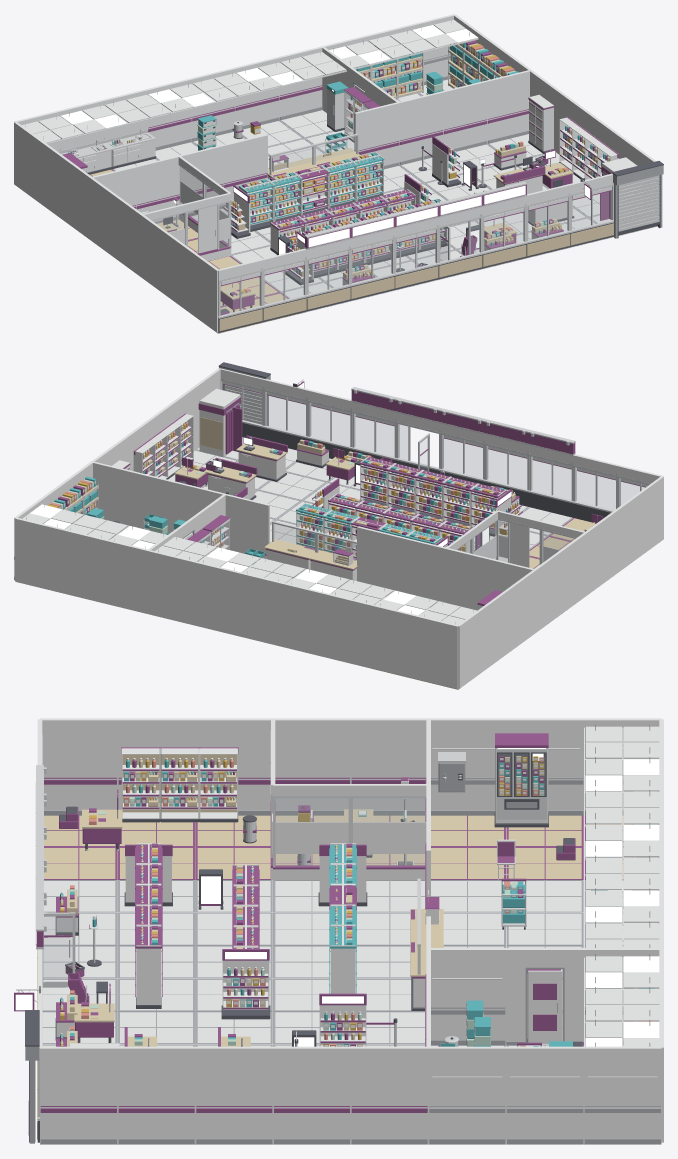
Rendered from pharmacy-and-high-street-chemist-high-st-0437019a-starter-scene__37548.glb.
3 renders of one model, top to bottom at view 1: azimuth 30°, elevation 25°; view 2: azimuth 150°, elevation 25°; view 3: azimuth 270°, elevation 25°, orthographic. The views are drawn at different scales.
Visible parts, largest first — view 1: 123-shop-wall-module/0, 124-shop-wall-module/0, 122-shop-wall-module/0, 121-shop-wall-module/0, 118-shop-wall-module/0, 090-roller-shutter/shutter-curtain/steel, 120-shop-wall-module/0, 108-shop-wall-module/0, 106-shop-wall-module/0, 103-stock-room-wall-module/0, 101-stock-room-wall-module/0, 102-stock-room-wall-module/0 (+103 smaller); view 2: 091-shop-wall-module/0, 093-shop-wall-module/0, 094-shop-wall-module/0, 095-shop-wall-module/0, 098-stock-room-wall-module/0, 099-stock-room-wall-module/0, 100-stock-room-wall-module/0, 096-shop-wall-module/0, 097-shop-wall-module/0, 092-shop-wall-module/0, 120-shop-wall-module/0, 119-shop-wall-module/0 (+91 smaller); view 3: 115-shop-wall-module/0, 111-stock-room-wall-module/0, 114-shop-wall-module/0, 112-shop-wall-module/0, 113-shop-wall-module/0, 116-shop-wall-module/0, 110-stock-room-wall-module/0, 109-stock-room-wall-module/0, 108-shop-wall-module/0, 125-stock-room-wall-module/0, 105-shop-wall-module/0, 104-shop-wall-module/0 (+102 smaller).
Part boxes in pixels (x1,y1,x2,y2): 123-shop-wall-module/0: [442, 80, 487, 148]; 124-shop-wall-module/0: [486, 70, 530, 143]; 122-shop-wall-module/0: [399, 91, 443, 164]; 121-shop-wall-module/0: [354, 102, 399, 165]; 118-shop-wall-module/0: [135, 155, 179, 221]; 090-roller-shutter/shutter-curtain/steel: [618, 175, 659, 231]; 120-shop-wall-module/0: [223, 134, 267, 206]; 108-shop-wall-module/0: [191, 251, 219, 332]; 106-shop-wall-module/0: [140, 214, 168, 295]; 103-stock-room-wall-module/0: [64, 159, 92, 239]; 101-stock-room-wall-module/0: [14, 122, 41, 202]; 102-stock-room-wall-module/0: [39, 140, 66, 220]; 091-shop-wall-module/0: [413, 615, 458, 688]; 093-shop-wall-module/0: [324, 593, 369, 667]; 094-shop-wall-module/0: [280, 582, 325, 656]; 095-shop-wall-module/0: [236, 571, 281, 645]; 098-stock-room-wall-module/0: [103, 539, 148, 613]; 099-stock-room-wall-module/0: [59, 528, 104, 602]; 100-stock-room-wall-module/0: [15, 517, 60, 591]; 096-shop-wall-module/0: [192, 560, 237, 634]; 097-shop-wall-module/0: [147, 550, 192, 624]; 092-shop-wall-module/0: [369, 604, 414, 677]; 120-shop-wall-module/0: [357, 526, 402, 596]; 119-shop-wall-module/0: [401, 537, 446, 607]; 115-shop-wall-module/0: [117, 1046, 195, 1143]; 111-stock-room-wall-module/0: [428, 1046, 506, 1143]; 114-shop-wall-module/0: [195, 1046, 272, 1143]; 112-shop-wall-module/0: [351, 1046, 428, 1143]; 113-shop-wall-module/0: [273, 1046, 350, 1143]; 116-shop-wall-module/0: [40, 1046, 117, 1143]; 110-stock-room-wall-module/0: [506, 1046, 583, 1143]; 109-stock-room-wall-module/0: [584, 1046, 661, 1143]; 108-shop-wall-module/0: [40, 718, 117, 810]; 125-stock-room-wall-module/0: [430, 948, 506, 1044]; 105-shop-wall-module/0: [273, 718, 350, 810]; 104-shop-wall-module/0: [351, 718, 428, 810].
Size of the model in its own units: 20.17 by 3.33 by 16.73.
